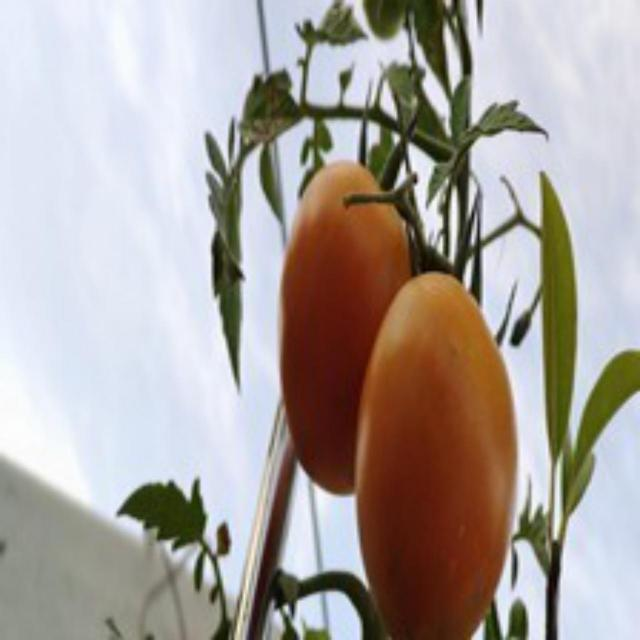tomato: (349, 268, 531, 637)
